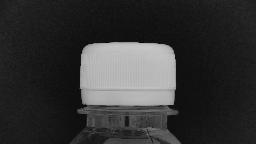Good Cap: (72, 37, 182, 119)
